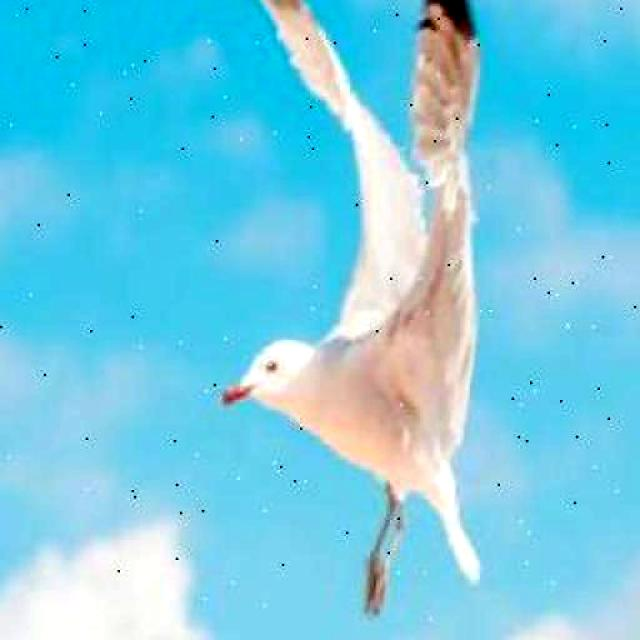airplane: (95, 0, 571, 638)
